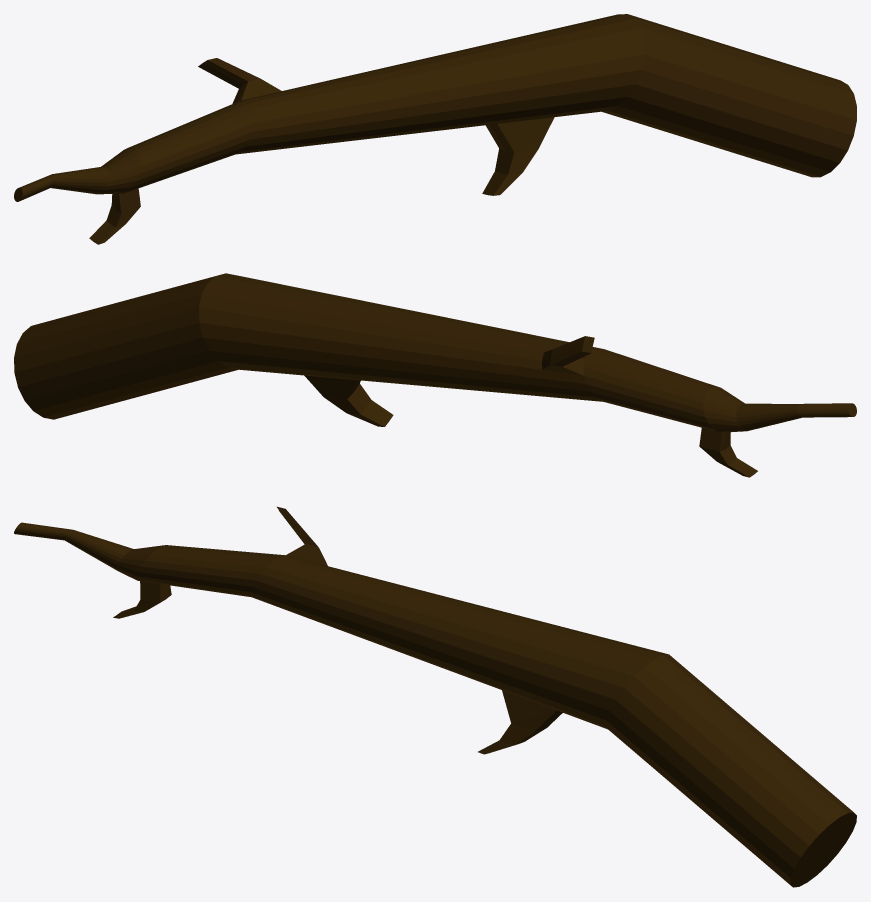
File: branch.fbx
3 renders of one model, top to bottom at view 1: azimuth 30°, elevation 25°; view 2: azimuth 150°, elevation 25°; view 3: azimuth 330°, elevation 25°, orthographic. The views are drawn at different scales.
Parts seen in each view (by area): view 1: branch; view 2: branch; view 3: branch.
Part boxes in pixels (left/top/right/bottom): branch: left=14, top=14, right=856, bottom=244; branch: left=14, top=273, right=856, bottom=477; branch: left=14, top=506, right=856, bottom=887.
Size of the model in its own units: 9.5 by 2.55 by 1.21.
